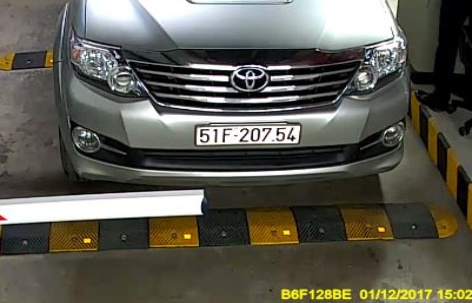plate: (190, 116, 303, 150)
